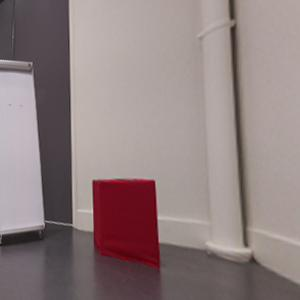big: (1, 61, 44, 238)
medium: (91, 179, 162, 270)
